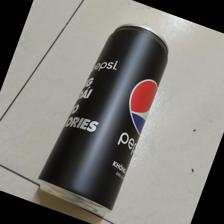Pepsi: (38, 23, 168, 221)
